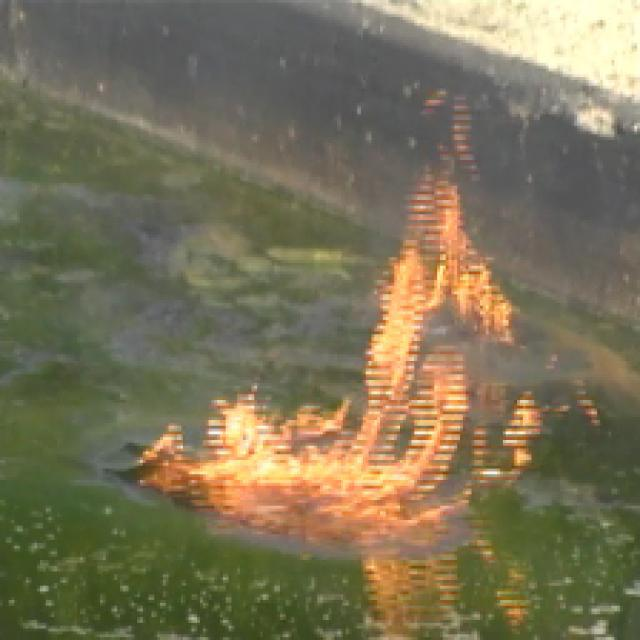Fire: (364, 198, 530, 482), (158, 385, 364, 518)
